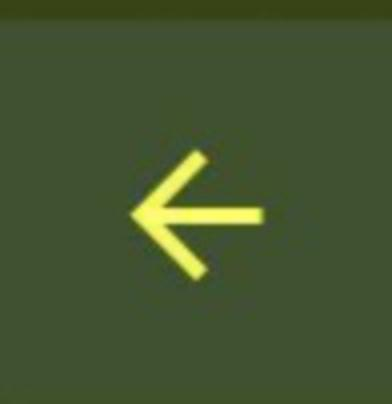ImgButton: (1, 1, 391, 403)
